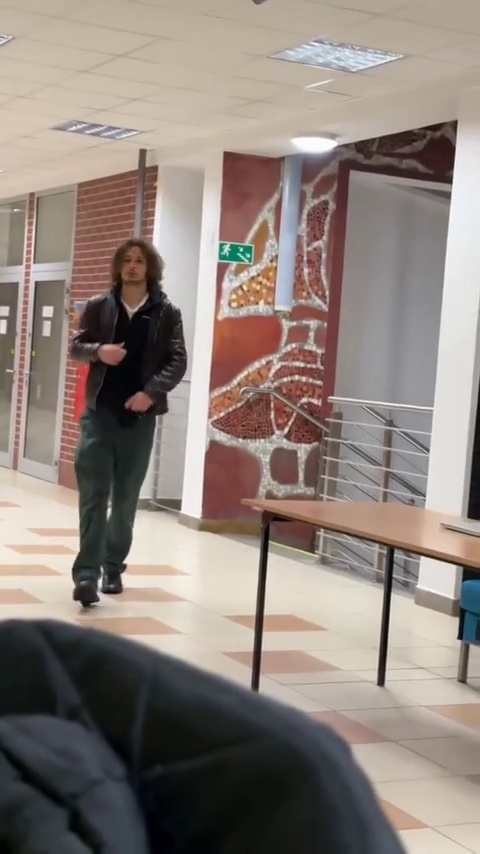no vest: (69, 235, 189, 611)
